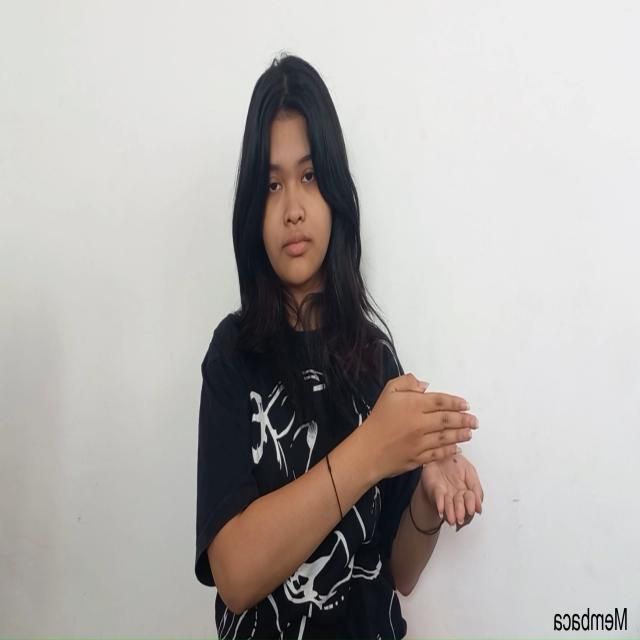Membaca -BISINDO-: (362, 372, 486, 534)
